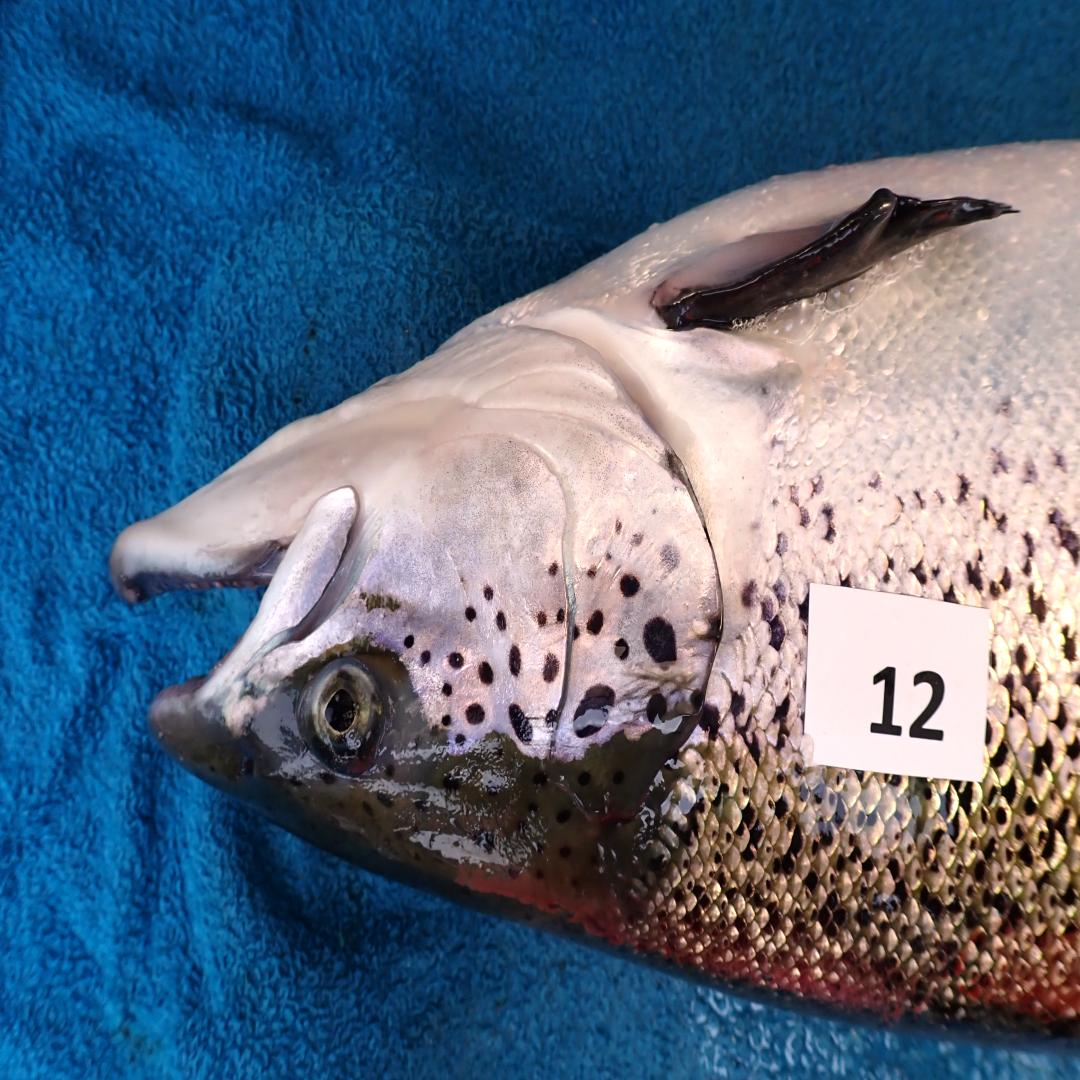roi: (355, 315, 724, 764)
